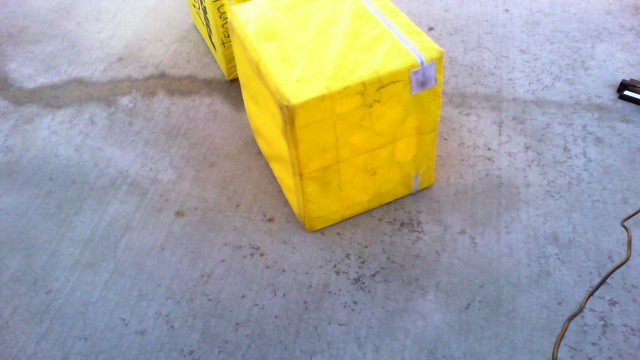cube: (220, 1, 447, 231), (186, 1, 274, 86)
